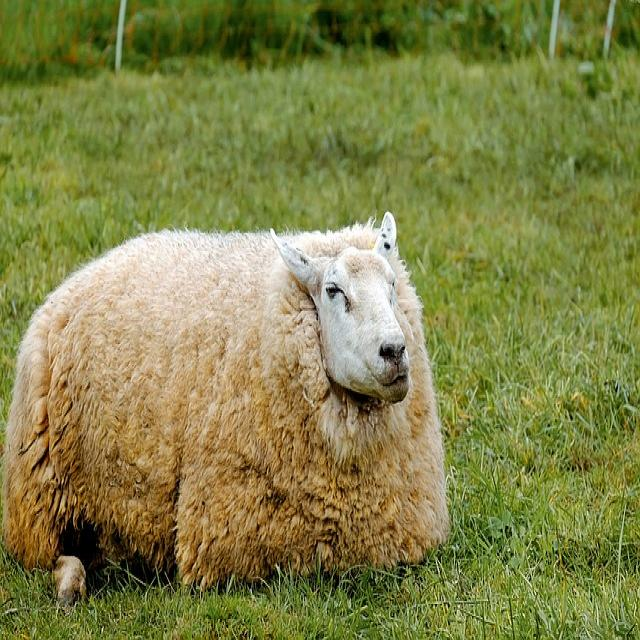goat: (5, 212, 449, 604)
